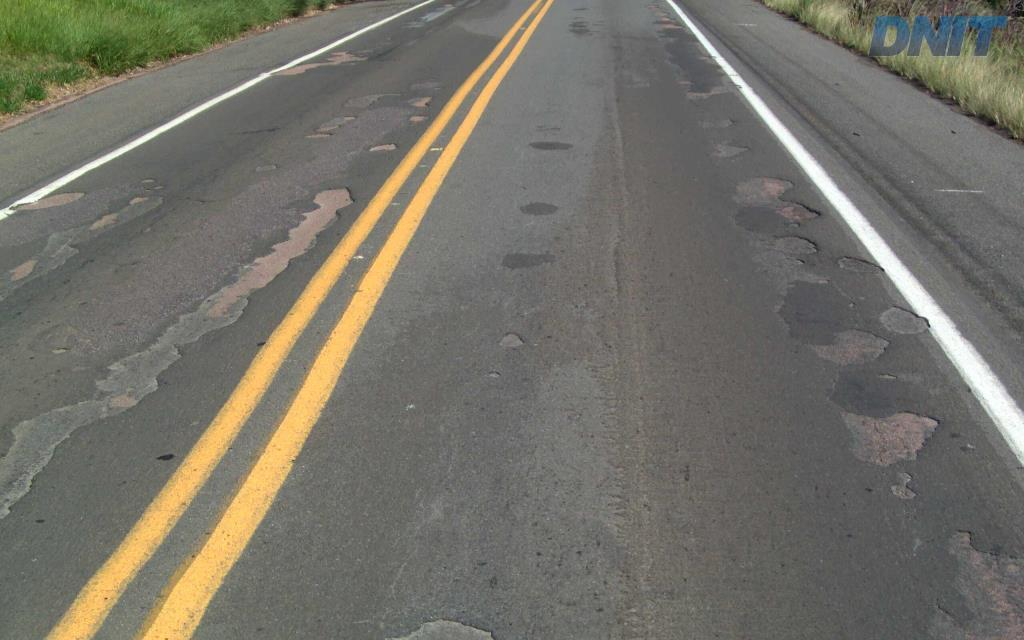pothole: (912, 525, 1022, 638), (800, 299, 933, 378), (730, 173, 827, 267), (836, 403, 946, 469), (386, 617, 501, 638), (834, 247, 886, 277), (707, 135, 754, 162), (884, 472, 919, 501)
